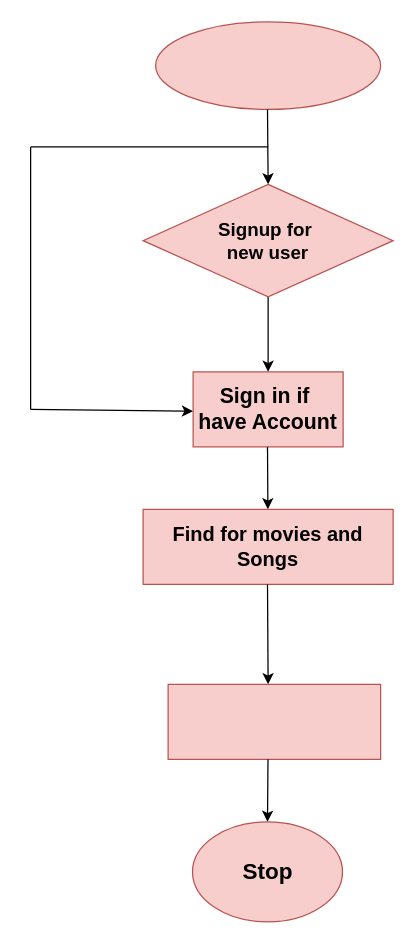
Image size: 415x944. Some labels were removed from this diagram. The shapes that lost their labels are listed below. From the top down, each one's centre as x and y in pixels, then its label:
At point (267, 65): "Start".
At point (274, 721): "Watch videos of your interest".
